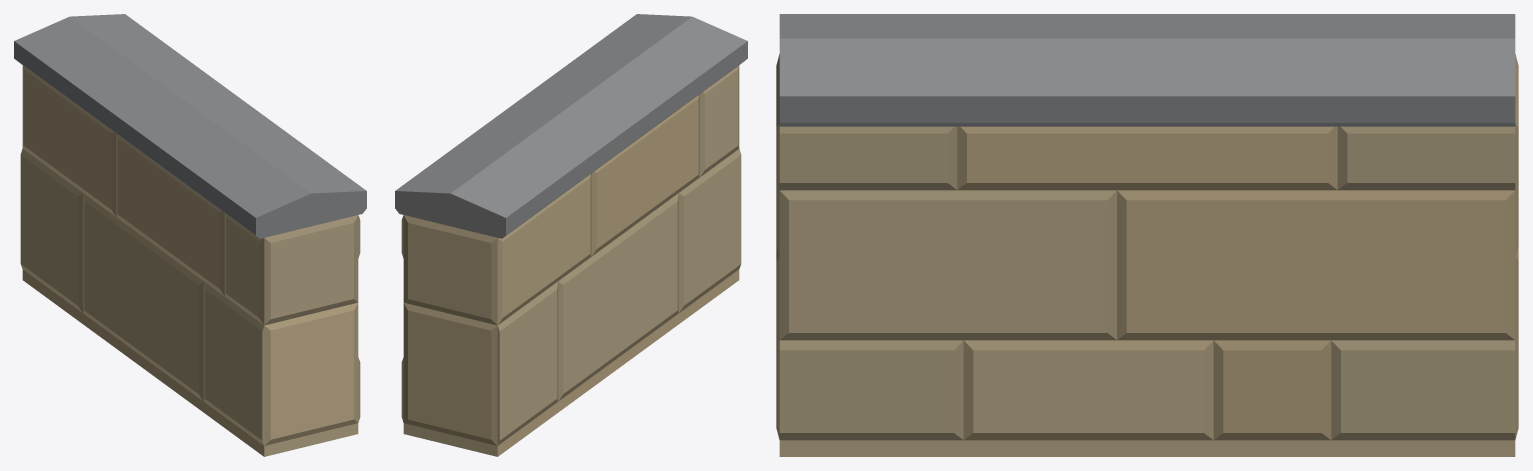
The model's file is c6-parados-2000.glb.
The picture shows the model from 3 angles, left to right: view 1: azimuth 30°, elevation 25°; view 2: azimuth 150°, elevation 25°; view 3: azimuth 270°, elevation 25°; orthographic projection. The views are drawn at different scales.
Visible parts, largest first — view 1: Mesh_Limestone, Mesh_Granite; view 2: Mesh_Limestone, Mesh_Granite; view 3: Mesh_Limestone, Mesh_Granite.
Boxes of the visible parts, x1,y1,x2,y2 form: Mesh_Limestone: (20,65,360,456); Mesh_Granite: (14,14,366,238); Mesh_Limestone: (401,65,741,456); Mesh_Granite: (395,14,747,238); Mesh_Limestone: (776,54,1518,456); Mesh_Granite: (779,14,1515,126).
Size of the model in its own units: 0.53 by 1.15 by 2.02.
